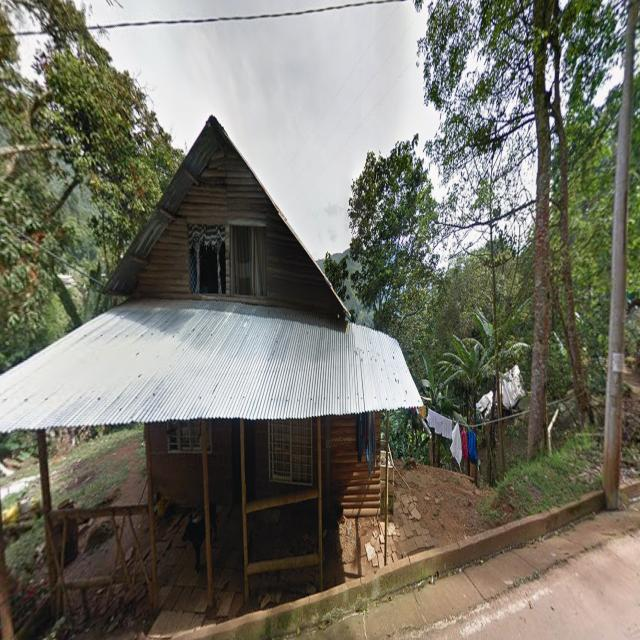Casa: (0, 117, 422, 518)
